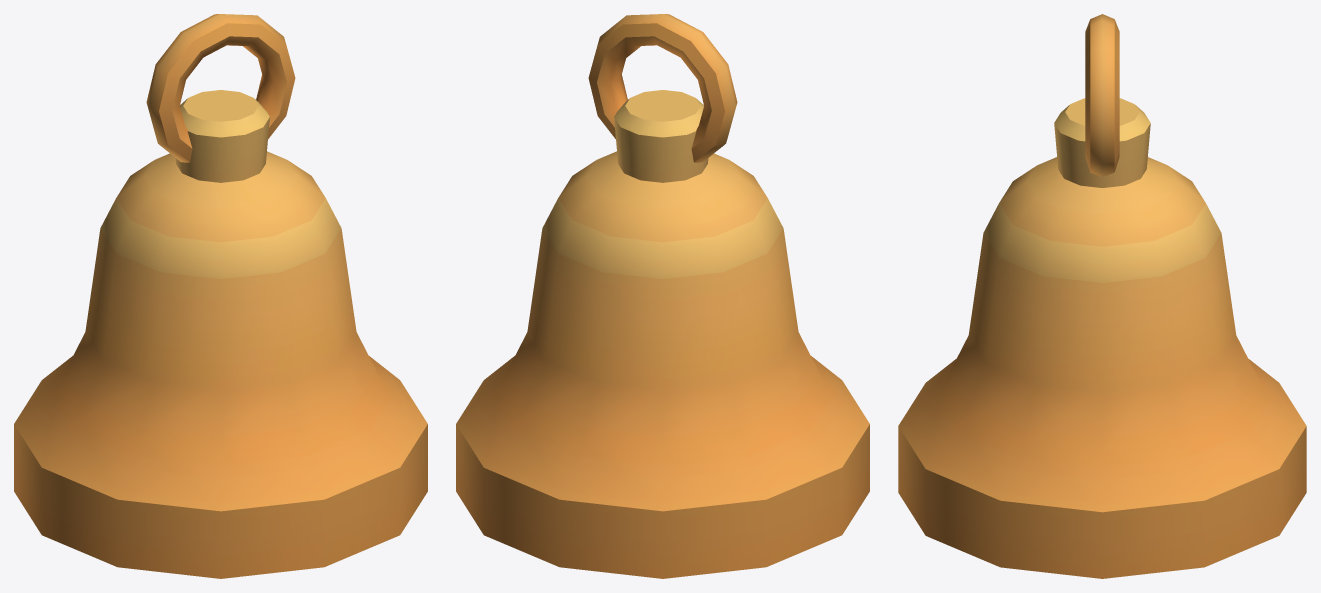
The model's file is bell.gltf.
3 views of the same model, side by side, from view 1: azimuth 30°, elevation 25°; view 2: azimuth 150°, elevation 25°; view 3: azimuth 270°, elevation 25° (orthographic).
Visible parts, largest first — view 1: bell, bell_ring; view 2: bell, bell_ring; view 3: bell, bell_ring.
Boxes of the visible parts, x1,y1,x2,y2 form: bell: (14, 90, 427, 578); bell_ring: (146, 14, 295, 162); bell: (456, 90, 869, 578); bell_ring: (588, 14, 737, 162); bell: (898, 98, 1306, 578); bell_ring: (1085, 14, 1119, 177).
Bounding box in the file's own units: 0.806 × 1.1 × 0.806.
1 material, 1 textured.
